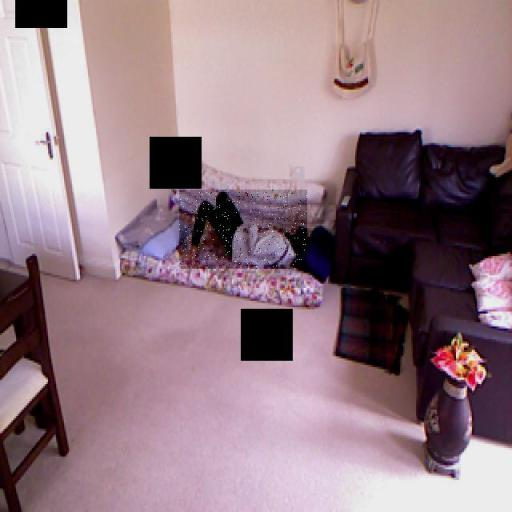Fall: (179, 190, 307, 269)
